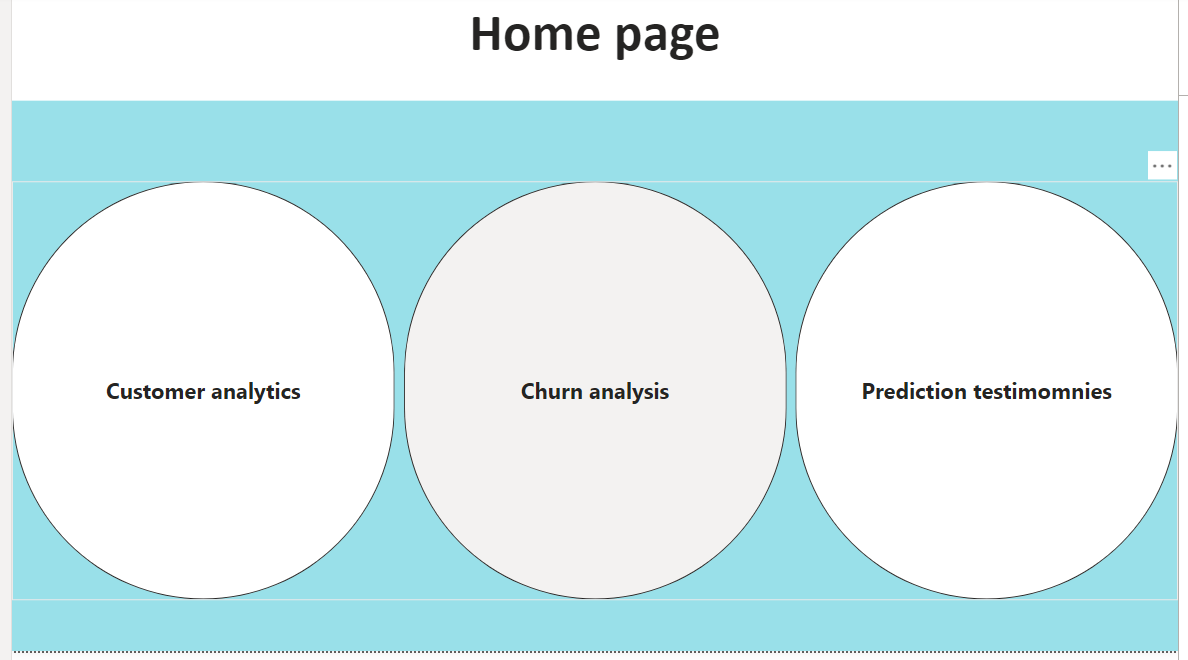

What the dashboard file says about the page in this screenshot:
{"tool":"powerbi","page":{"name":"Home page","canvas":[1280,720],"ordinal":0},"visuals":[{"type":"pageNavigator","box":[0,203.9,1280,459.6],"z":0},{"type":"textbox","box":[0,0,1280,115.7],"z":1000}]}

Visuals, with their boxes in screenshot pixels (x1, y1, x2, y2), scaled from the page's 1280x720 canvas onto the 1188x660 screenshot:
pageNavigator: {"x1": 0, "y1": 187, "x2": 1187, "y2": 608}
textbox: {"x1": 0, "y1": 0, "x2": 1187, "y2": 106}
